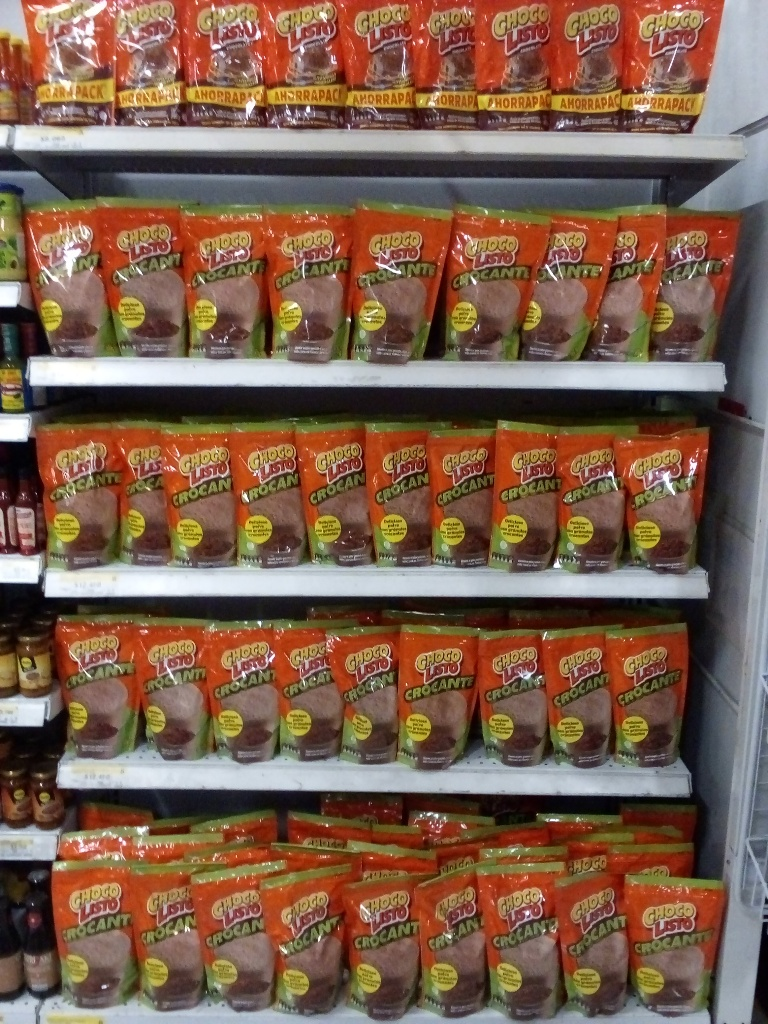COL0170102DYP50000: (20, 194, 131, 359)
COL0170103DYP40000: (21, 1, 119, 128)
